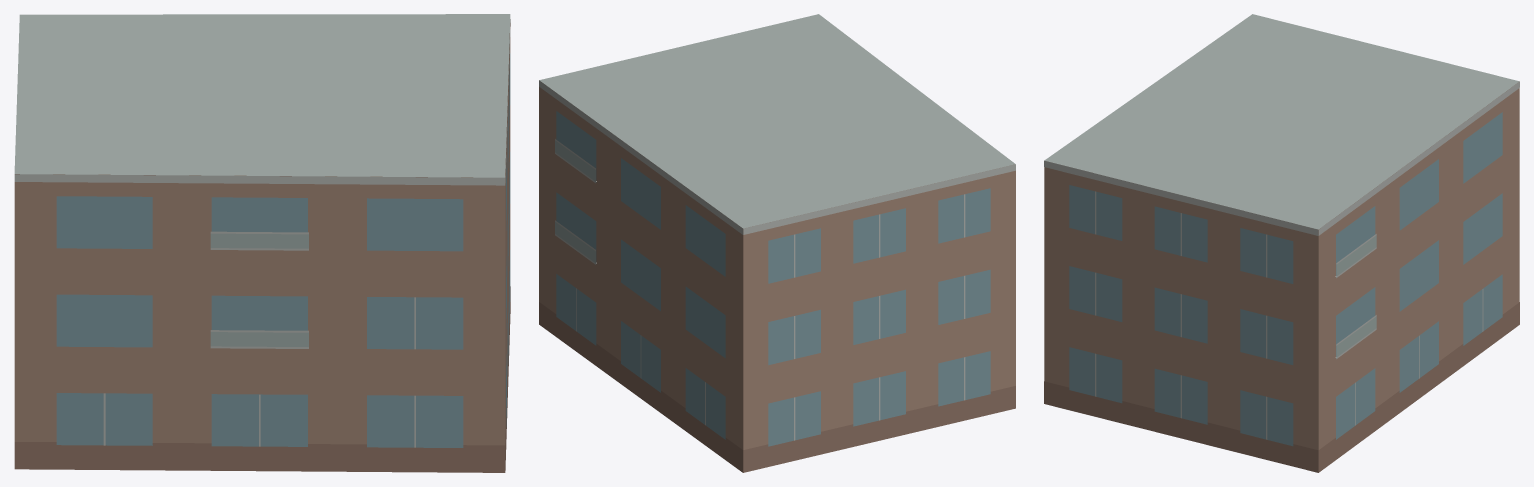
The model's file is survey-upis-32703957.glb.
3 renders of one model, left to right at view 1: azimuth 30°, elevation 25°; view 2: azimuth 150°, elevation 25°; view 3: azimuth 270°, elevation 25°, orthographic. The views are drawn at different scales.
Parts seen in each view (by area): view 1: survey-upis-32703957.tmp; view 2: survey-upis-32703957.tmp; view 3: survey-upis-32703957.tmp.
Part boxes in pixels (box(x1,y1,x2,y2)): survey-upis-32703957.tmp: box(14, 14, 510, 472); survey-upis-32703957.tmp: box(539, 14, 1015, 472); survey-upis-32703957.tmp: box(1044, 14, 1519, 472).
Size of the model in its own units: 17.39 by 9.15 by 16.22.
